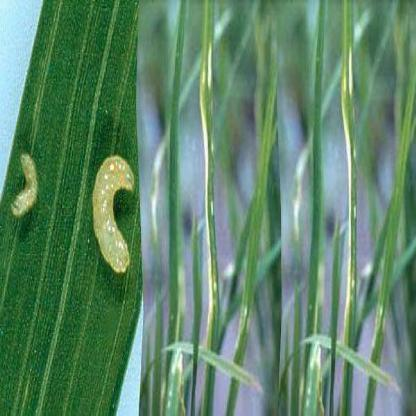whorl-maggot: (89, 149, 138, 278), (6, 146, 43, 226)
